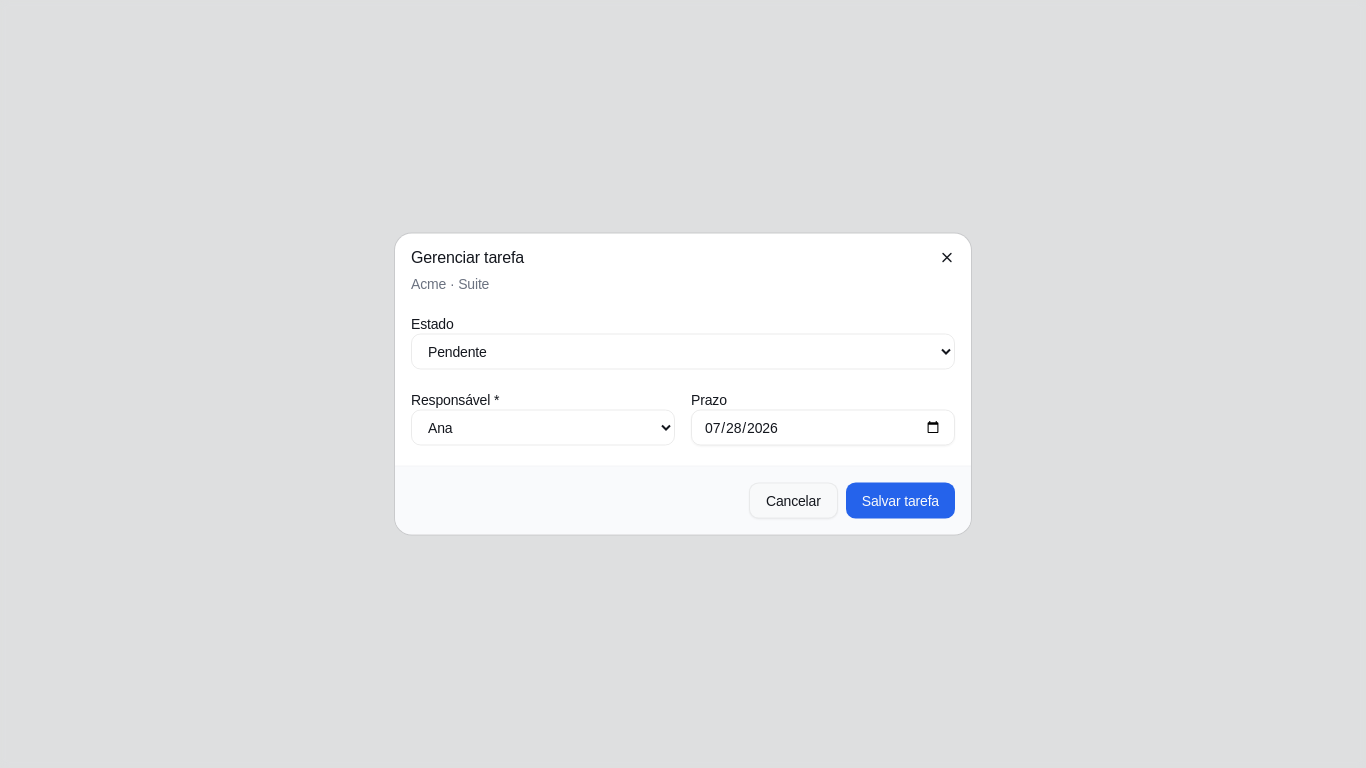
Test: ActionTaskDialog › mantém o diálogo aberto e informa erro quando o banco rejeita a mudança
Click the button "Salvar tarefa": x=900, y=500 [846,482,955,518]
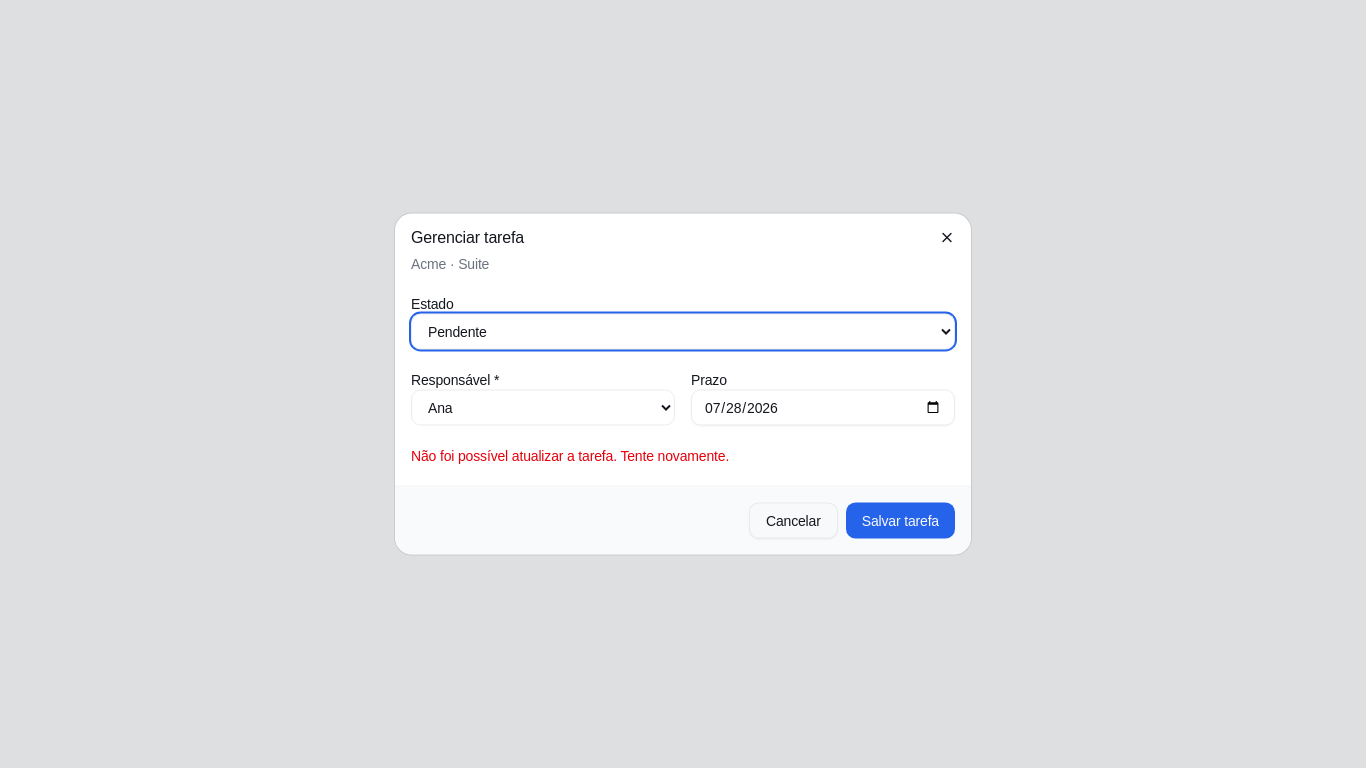
expect the message shows "Não foi possível atualizar a tarefa": met, box [411,448,729,464]
